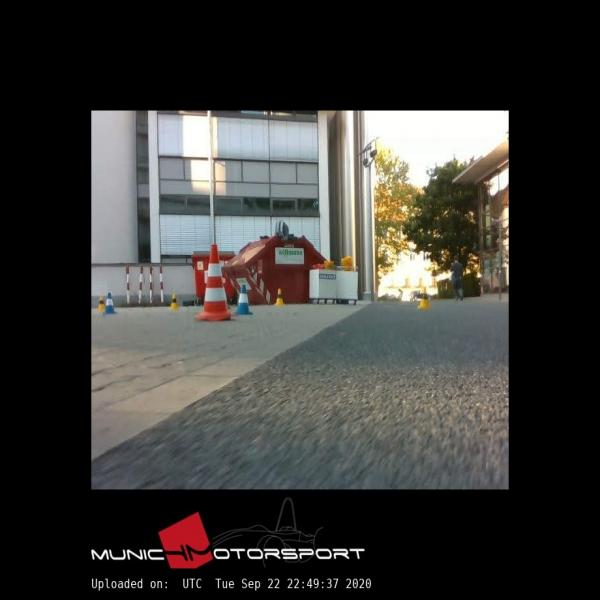blue_cone: (234, 285, 253, 314), (103, 293, 117, 313)
large_orange_cone: (194, 245, 237, 321)
yellow_cone: (417, 287, 431, 309), (275, 289, 285, 306), (169, 294, 178, 310), (98, 295, 105, 311)
